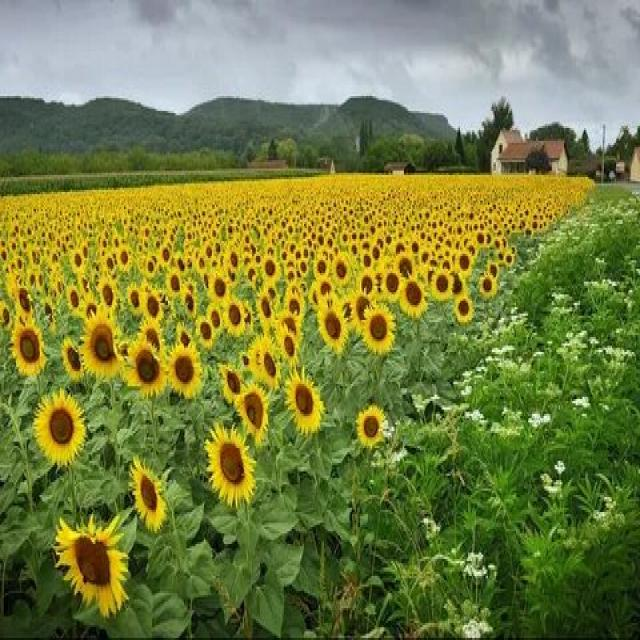sunflower: (48, 514, 129, 621), (203, 422, 261, 508), (32, 386, 91, 469), (76, 305, 125, 378), (126, 456, 170, 534), (285, 369, 327, 440), (9, 313, 52, 382), (356, 299, 400, 358), (166, 341, 206, 399), (314, 301, 354, 356), (237, 384, 270, 439), (353, 405, 391, 448), (398, 273, 431, 322), (216, 358, 244, 402), (222, 292, 250, 335), (139, 284, 164, 320), (452, 288, 475, 324), (432, 267, 453, 303), (477, 268, 499, 298), (164, 264, 184, 296), (224, 241, 245, 271), (383, 266, 400, 300)
